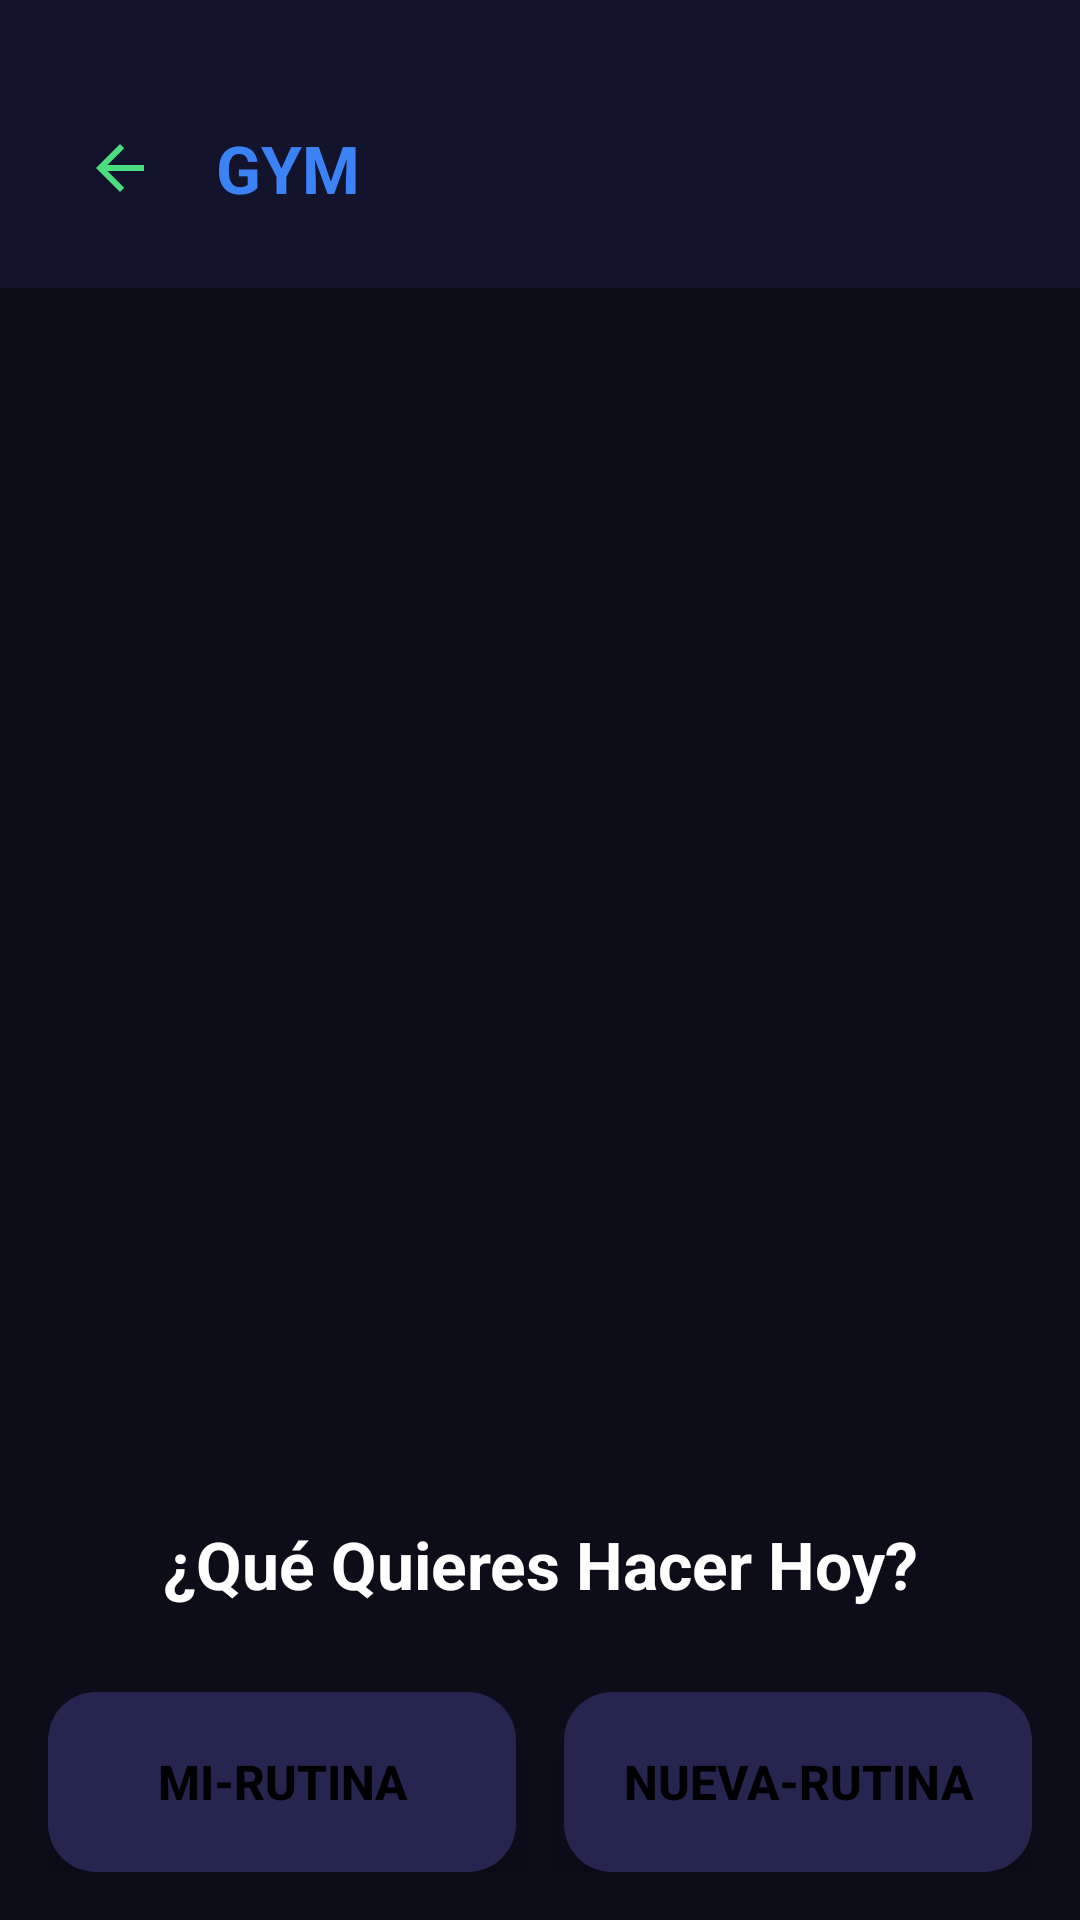

Point at icon controls on the screen. Image size 1080px×1920px, points as (x,y).
Volver: (120,168)
